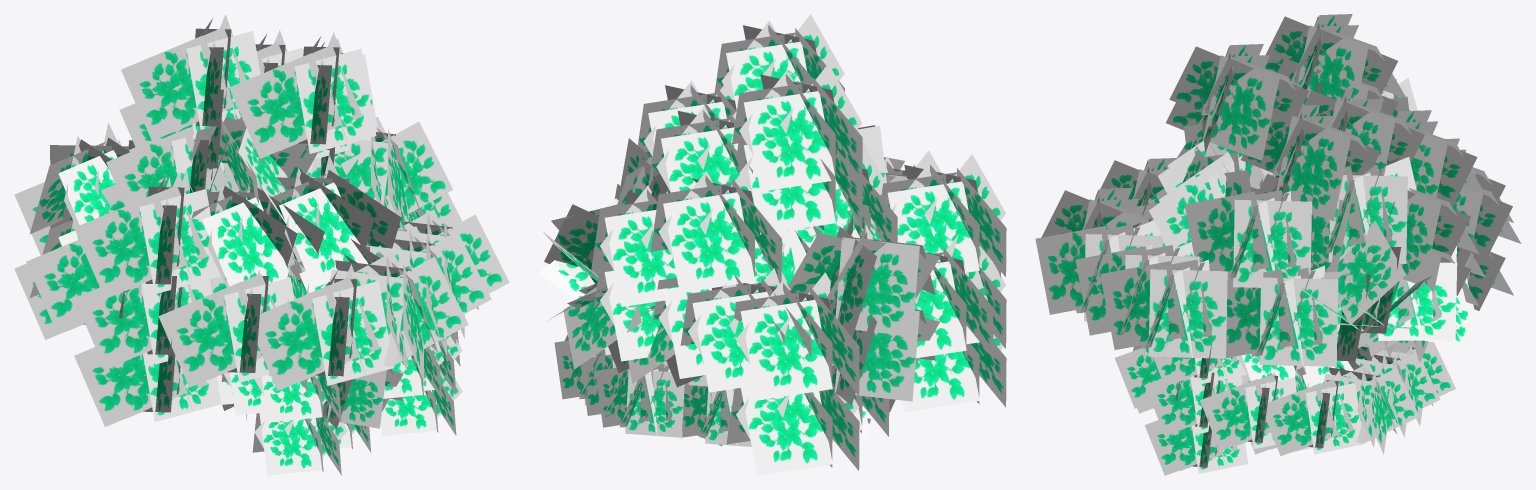
The model's file is Bush2.fbx.
3 views of the same model, side by side, from view 1: azimuth 30°, elevation 25°; view 2: azimuth 150°, elevation 25°; view 3: azimuth 270°, elevation 25° (orthographic). The views are drawn at different scales.
Parts seen in each view (by area): view 1: OrangeTop, OrangeTop001; view 2: OrangeTop, OrangeTop001; view 3: OrangeTop, OrangeTop001.
Boxes of the visible parts, <box> form: OrangeTop: <box>14,14,509,426</box>; OrangeTop001: <box>209,330,462,475</box>; OrangeTop: <box>539,14,1006,475</box>; OrangeTop001: <box>554,335,895,446</box>; OrangeTop: <box>1035,14,1521,366</box>; OrangeTop001: <box>1114,338,1455,475</box>.
Bounding box in the file's own units: 19.51 × 17.34 × 19.86.
